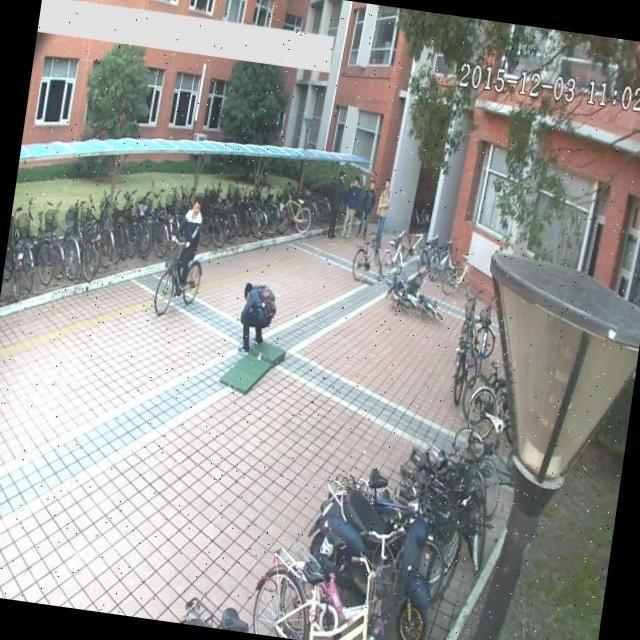person: (230, 277, 282, 363), (166, 193, 208, 280), (369, 176, 397, 256), (338, 172, 364, 242), (353, 177, 380, 244), (325, 164, 348, 240)
